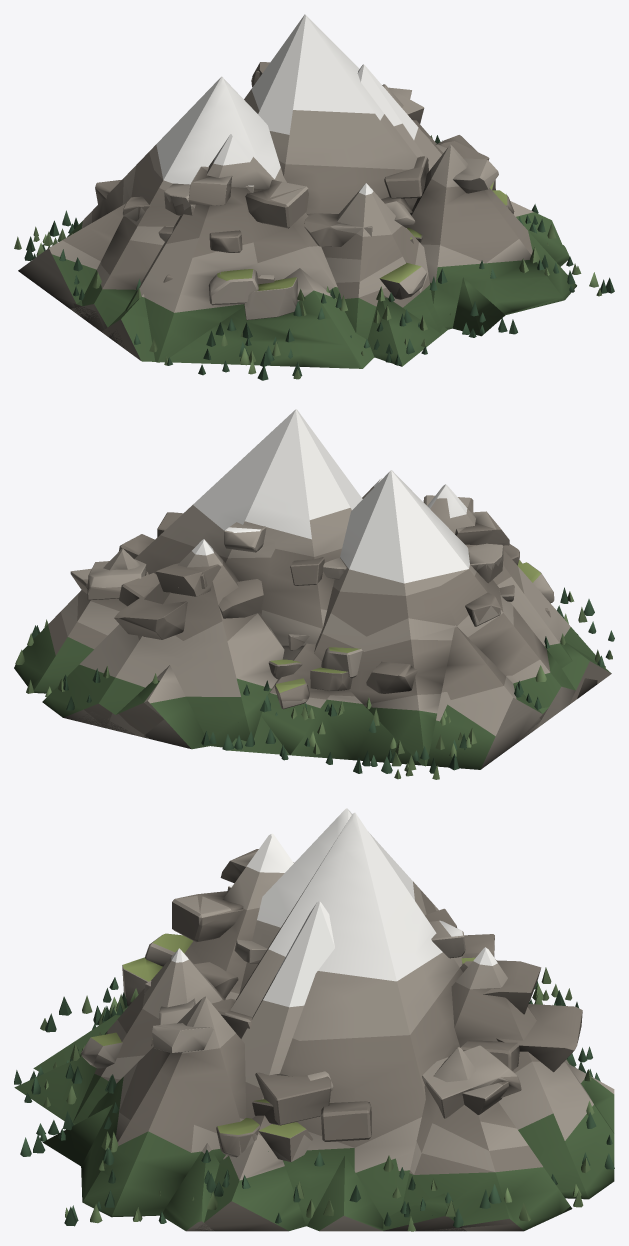
Rendered from nature-1de73f03.glb.
3 renders of one model, top to bottom at view 1: azimuth 30°, elevation 25°; view 2: azimuth 150°, elevation 25°; view 3: azimuth 270°, elevation 25°, orthographic. The views are drawn at different scales.
Parts seen in each view (by area): view 1: mountain_a-rock, mountain_b-rock, mountain_a-forest, mountain_b-forest; view 2: mountain_a-rock, mountain_b-rock, mountain_a-forest, mountain_b-forest; view 3: mountain_a-rock, mountain_b-rock, mountain_a-forest, mountain_b-forest.
Part boxes in pixels (x1,y1,x2,y2): mountain_a-rock: (50, 14, 576, 368); mountain_b-rock: (18, 64, 562, 366); mountain_a-forest: (42, 194, 614, 380); mountain_b-forest: (14, 135, 573, 365); mountain_a-rock: (42, 409, 611, 749); mountain_b-rock: (14, 470, 575, 769); mountain_a-forest: (58, 587, 614, 773); mountain_b-forest: (15, 619, 550, 779); mountain_a-rock: (33, 812, 614, 1231); mountain_b-rock: (14, 808, 575, 1231); mountain_a-forest: (20, 977, 614, 1231); mountain_b-forest: (14, 967, 600, 1226).
Bounding box in the file's own units: 2.97 × 1.66 × 2.89.
